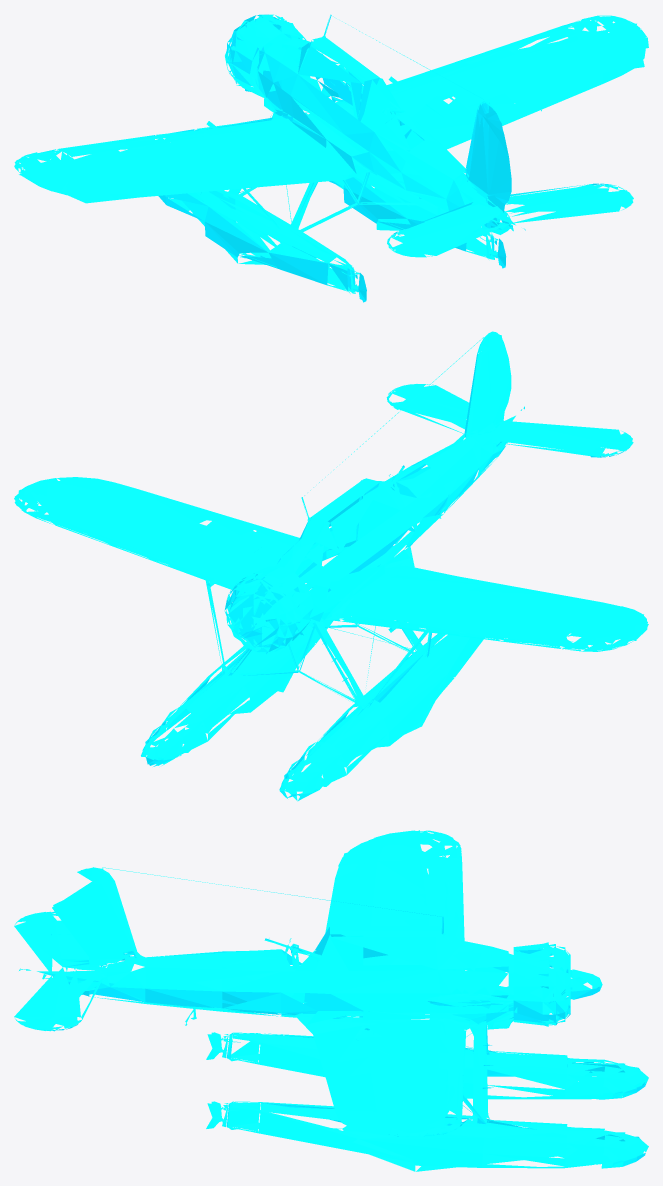
File: PGAS901.glb
3 renders of one model, top to bottom at view 1: azimuth 30°, elevation 25°; view 2: azimuth 150°, elevation 25°; view 3: azimuth 270°, elevation 25°, orthographic.
Visible parts, largest first — view 1: misc; view 2: misc; view 3: misc.
Part boxes in pixels (<box>): misc: <box>14,14,648,302</box>; misc: <box>14,331,648,801</box>; misc: <box>14,830,648,1171</box>.
Size of the model in its own units: 0.8376 by 0.3403 by 0.7322.
